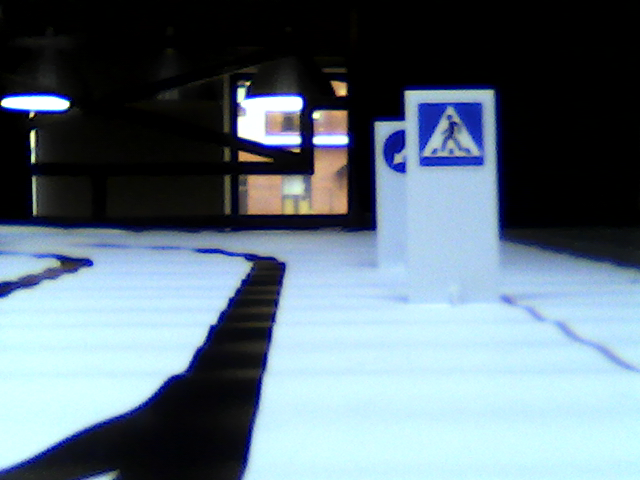pesh: (417, 101, 482, 168)
prep: (382, 127, 408, 173)
